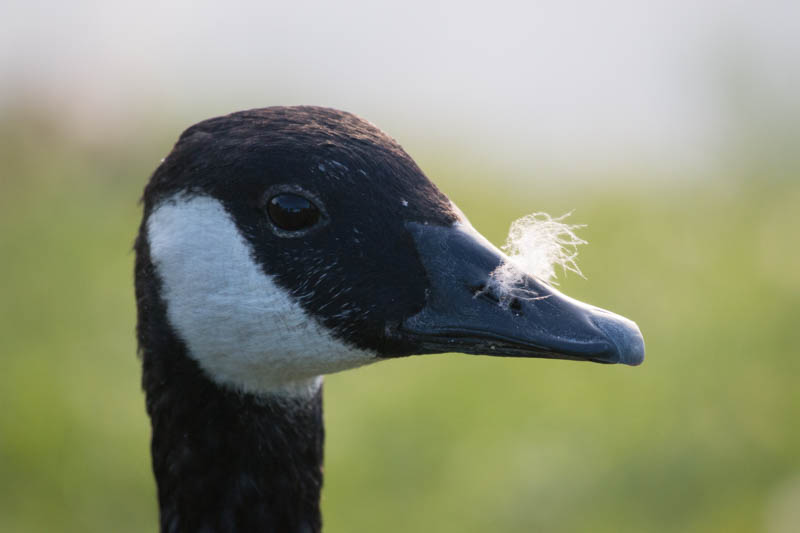goose-head: (135, 105, 647, 402)
